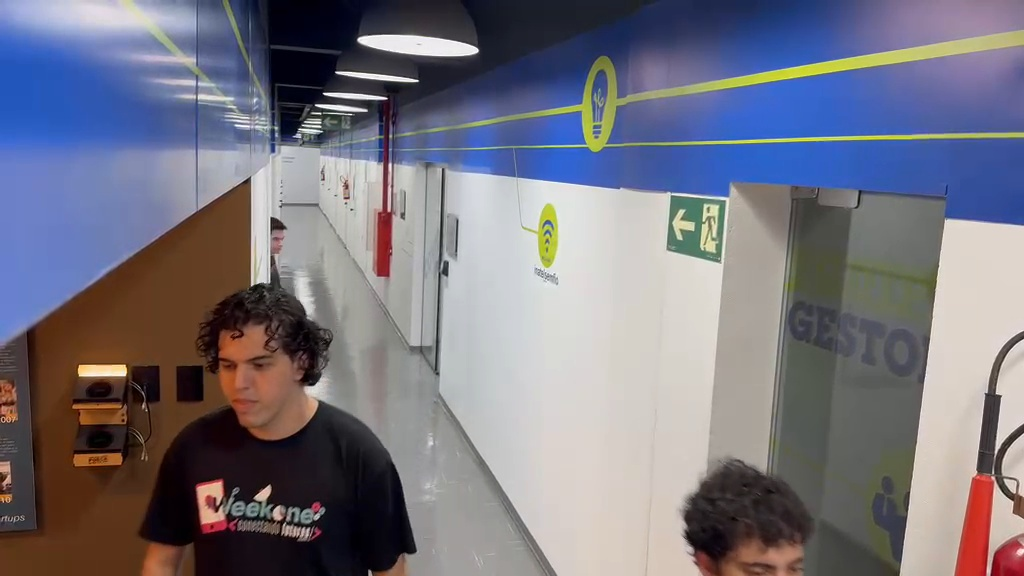person: (136, 285, 418, 573), (679, 457, 814, 574)
